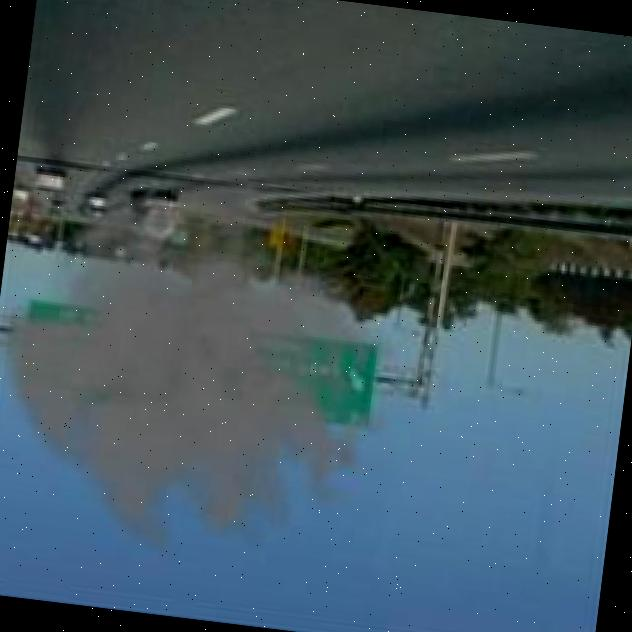smoke: (0, 131, 419, 593)
